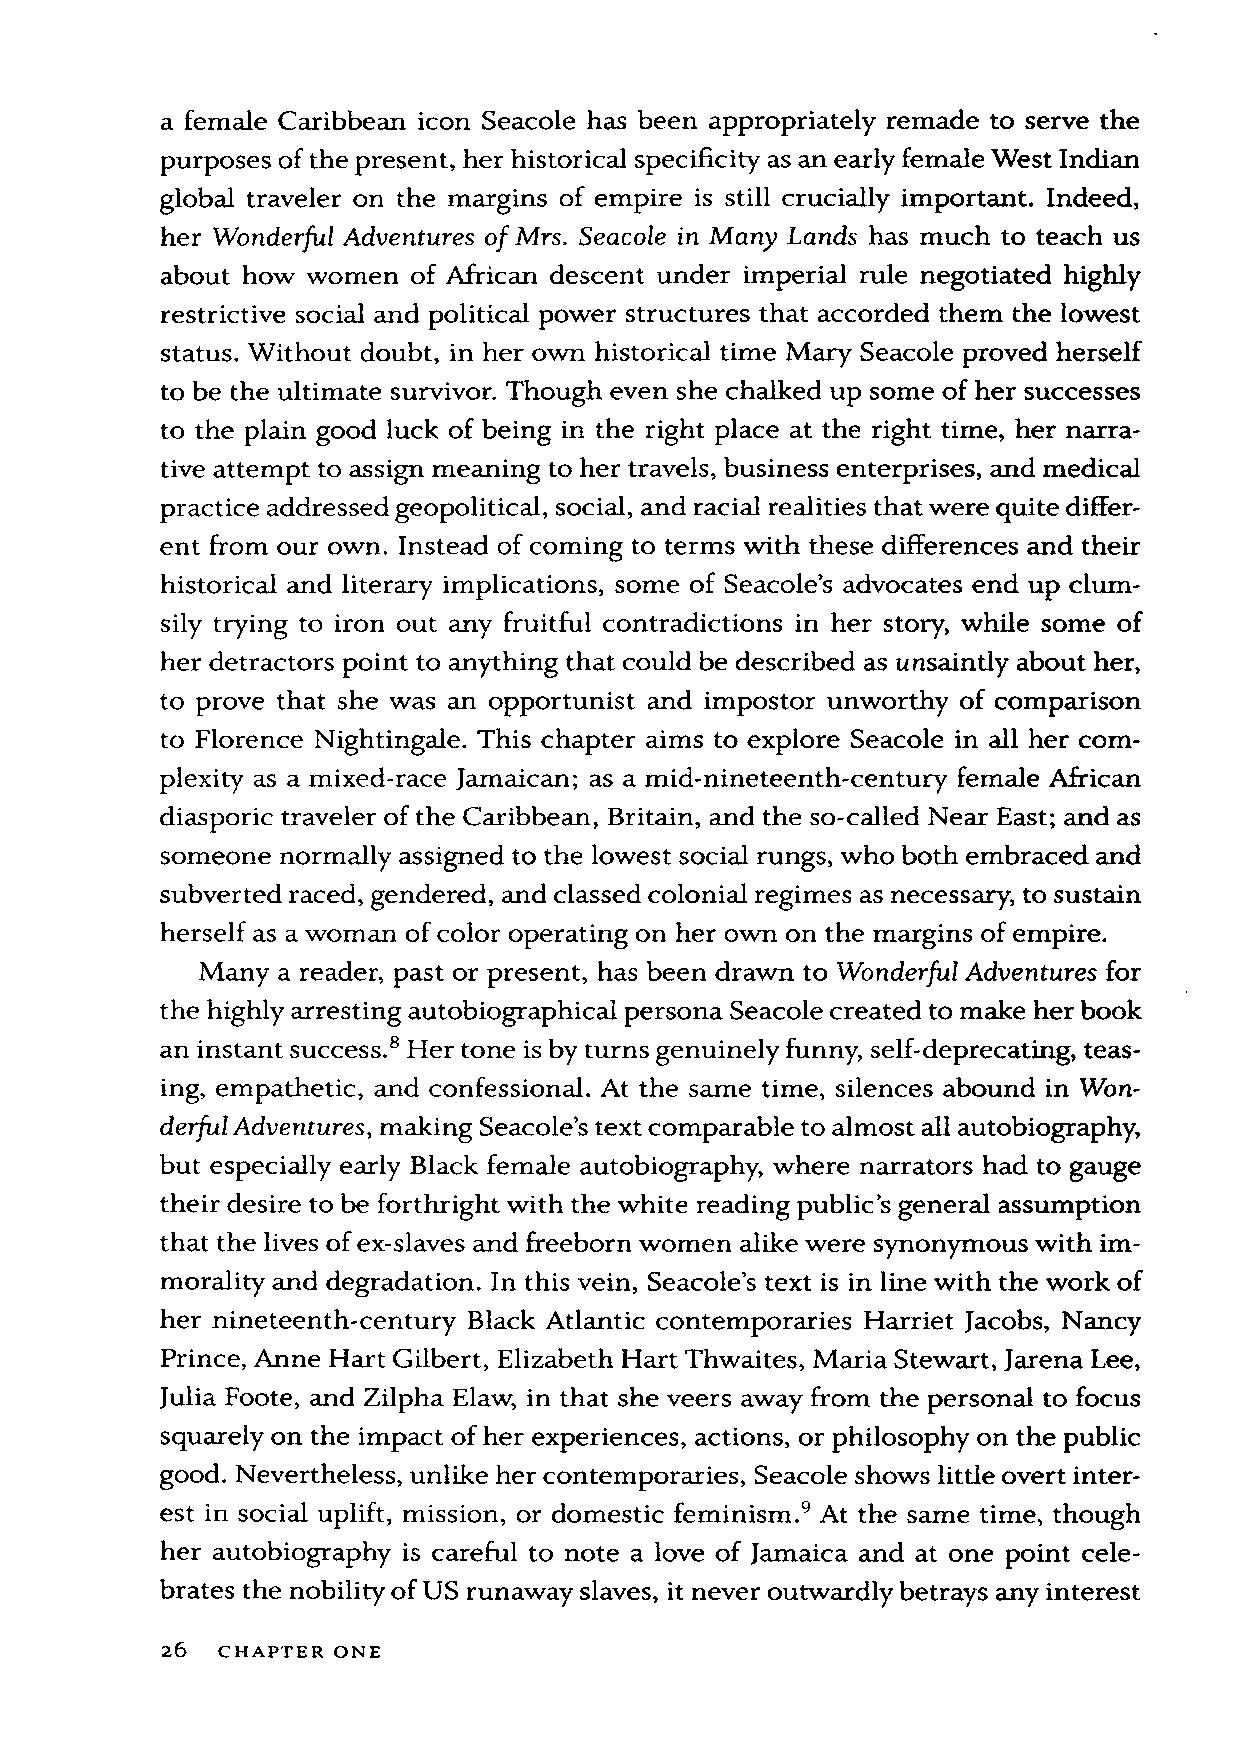content: (152, 103, 1143, 1604)
content_chapter: (213, 1640, 386, 1663)
content_pagenumber: (157, 1636, 195, 1663)
